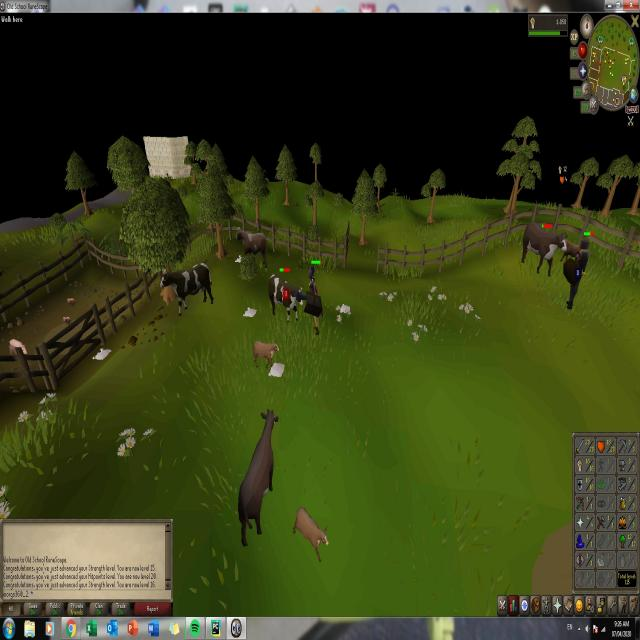cow: (236, 402, 278, 548), (160, 261, 213, 315), (519, 219, 567, 274), (293, 506, 328, 562), (266, 274, 304, 325), (235, 226, 269, 270), (250, 334, 280, 368)
player: (307, 266, 323, 337)
